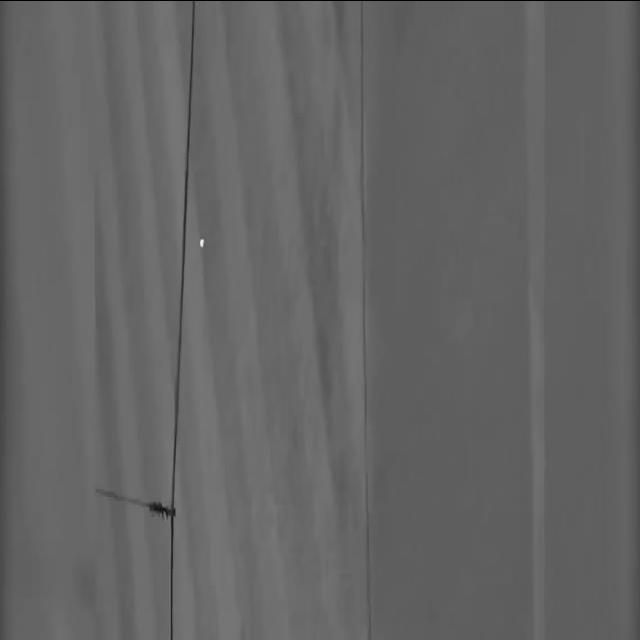baseball: (200, 238, 205, 247)
